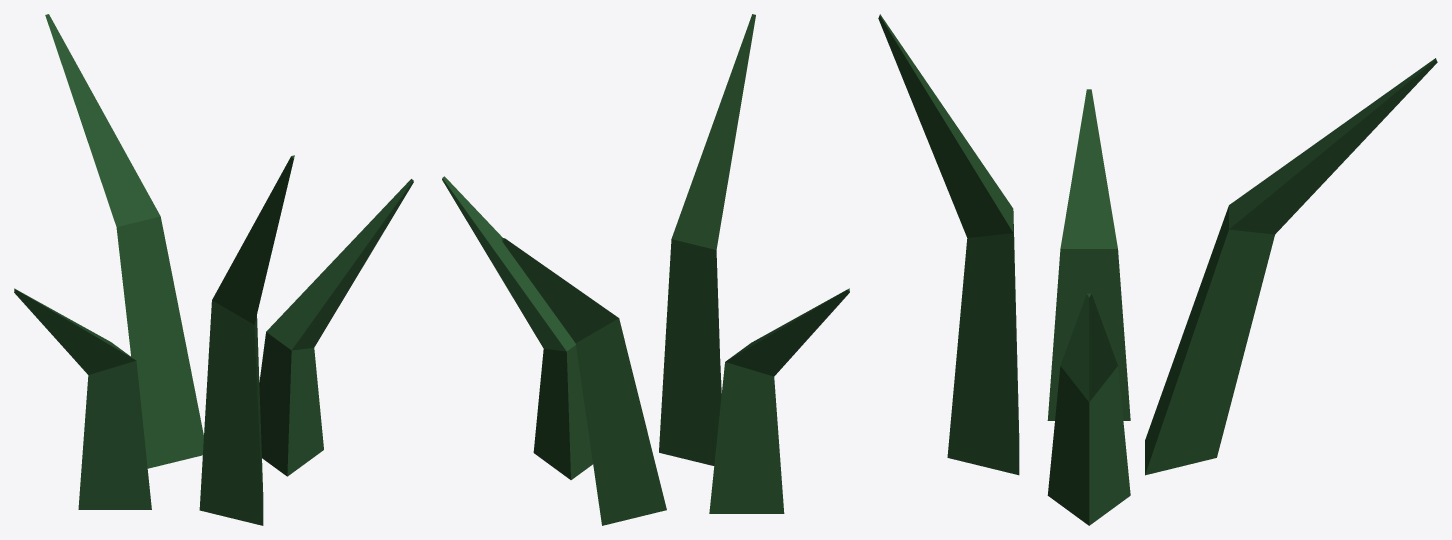
The model's file is Grass.fbx.
The picture shows the model from 3 angles, left to right: view 1: azimuth 30°, elevation 25°; view 2: azimuth 150°, elevation 25°; view 3: azimuth 270°, elevation 25°; orthographic projection. The views are drawn at different scales.
Visible parts, largest first — view 1: polySurface2; view 2: polySurface2; view 3: polySurface2.
Boxes of the visible parts, box(x1,y1,x2,y2) form: polySurface2: box(14, 14, 413, 525); polySurface2: box(442, 14, 849, 525); polySurface2: box(878, 14, 1437, 525).
Size of the model in its own units: 10.88 by 10.2 by 11.68.
